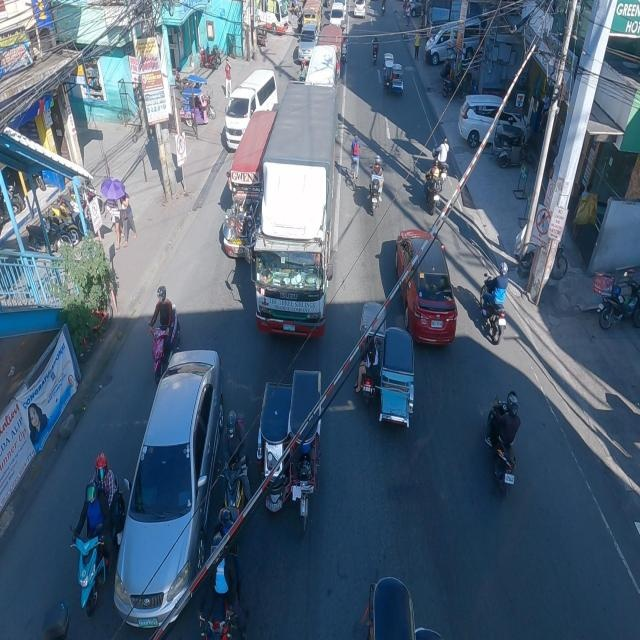Truck: (252, 80, 333, 340)
